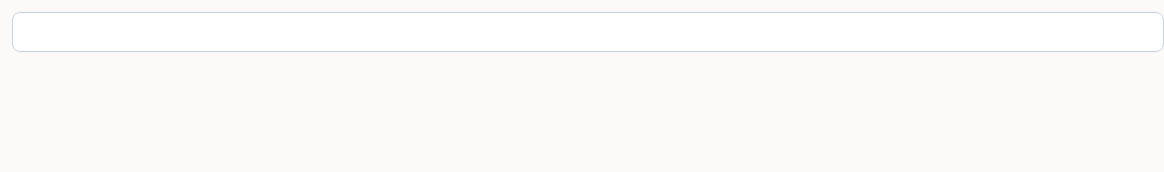
Scenario: CarSearchAutocomplete › Clear functionality › CAR-U-015: shows clear button when input has value
This screenshot has width=1164, height=172.
Type "Test" into the dropdown at {"x": 588, "y": 32}, box [12, 12, 1163, 52]
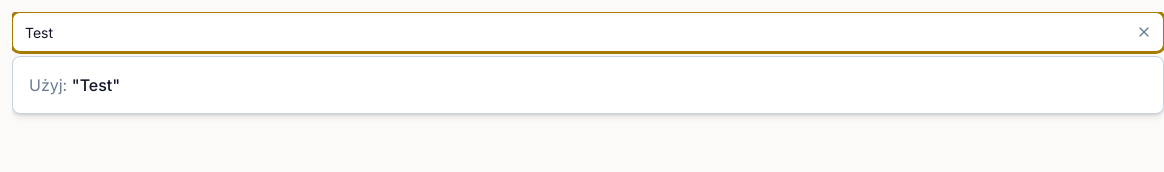
Expected: the button named "wyczyść" is shown, [1132, 20, 1156, 44]
